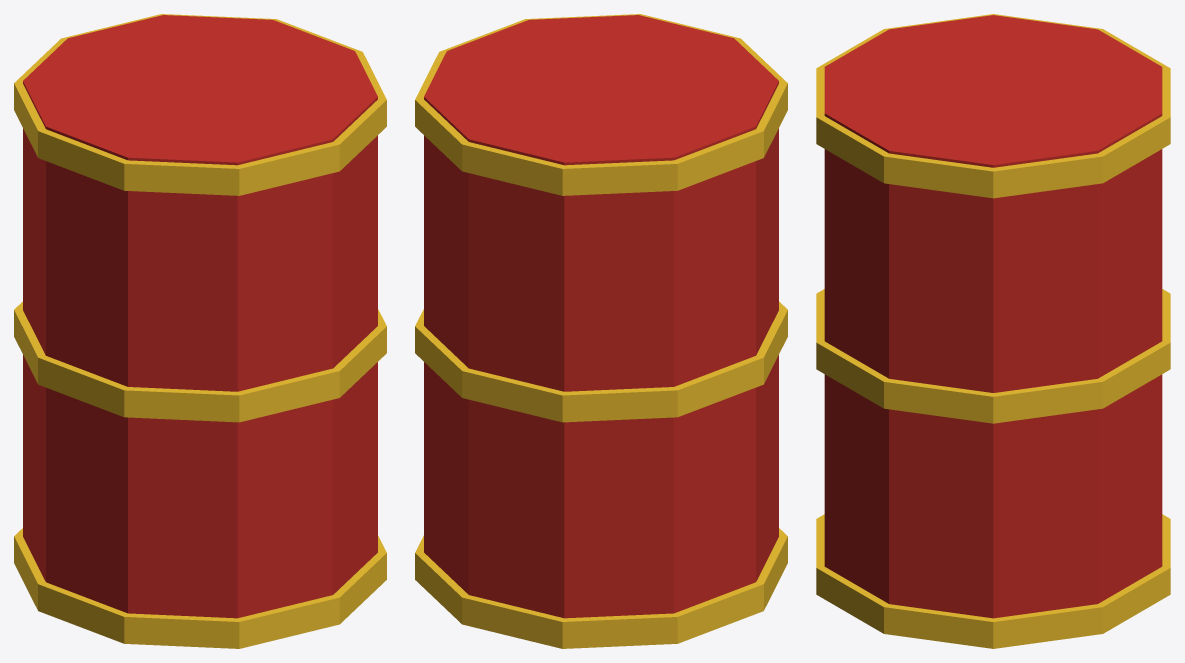
Rendered from prop_barrel_explosive.glb.
3 views of the same model, side by side, from view 1: azimuth 30°, elevation 25°; view 2: azimuth 150°, elevation 25°; view 3: azimuth 270°, elevation 25° (orthographic).
Visible parts, largest first — view 1: prop_barrel_explosive__mesh; view 2: prop_barrel_explosive__mesh; view 3: prop_barrel_explosive__mesh.
Part boxes in pixels (<box>): prop_barrel_explosive__mesh: <box>14,14,386,648</box>; prop_barrel_explosive__mesh: <box>415,14,787,648</box>; prop_barrel_explosive__mesh: <box>816,14,1170,648</box>.
Size of the model in its own units: 0.63 by 0.9 by 0.5992.
